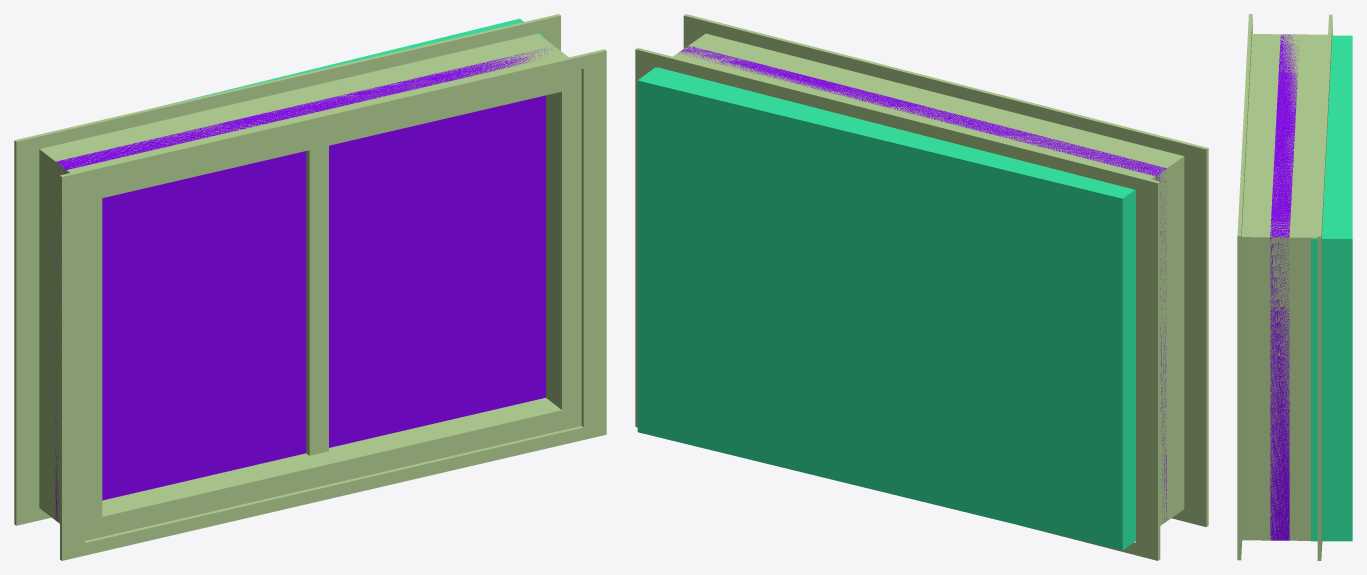
The model's file is window 1.FBX.
3 renders of one model, left to right at view 1: azimuth 30°, elevation 25°; view 2: azimuth 150°, elevation 25°; view 3: azimuth 270°, elevation 25°, orthographic. The views are drawn at different scales.
Parts seen in each view (by area): view 1: FixedWindow001, Box001; view 2: Box001, FixedWindow001; view 3: FixedWindow001, Box001.
Boxes of the visible parts, left/top/right/bottom form: FixedWindow001: left=14, top=14, right=606, bottom=560; Box001: left=162, top=18, right=544, bottom=105; Box001: left=637, top=67, right=1135, bottom=550; FixedWindow001: left=635, top=14, right=1208, bottom=560; FixedWindow001: left=1237, top=14, right=1332, bottom=560; Box001: left=1311, top=35, right=1352, bottom=541.
Size of the model in its own units: 1403 by 307 by 953.
